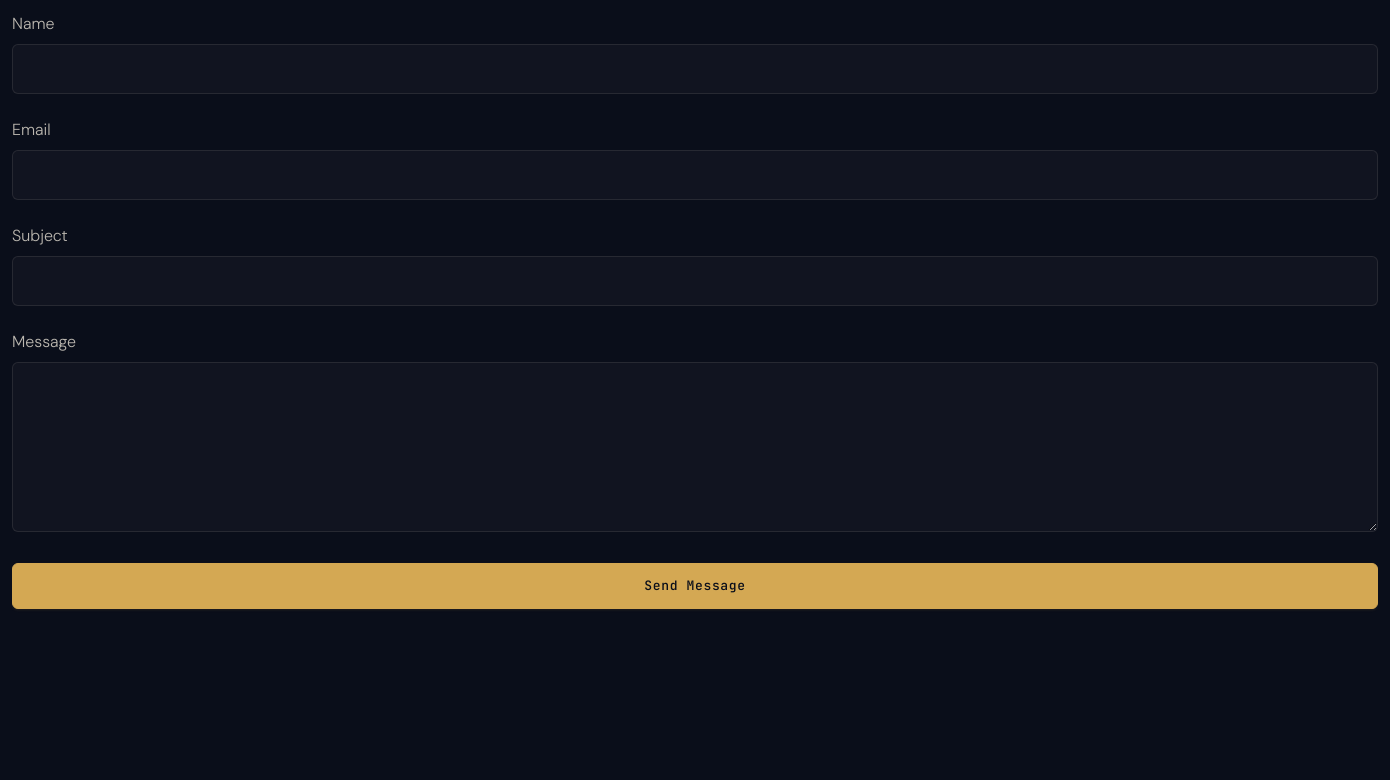
ContactForm Component - Functionality Tests › Form Submission › should handle submission errors gracefully
This screenshot has width=1390, height=780.
# Fill out the form
Type "John Doe" into the field labelled "Name".
click(695, 69); type("John Doe")  # box [12,44,1378,94]
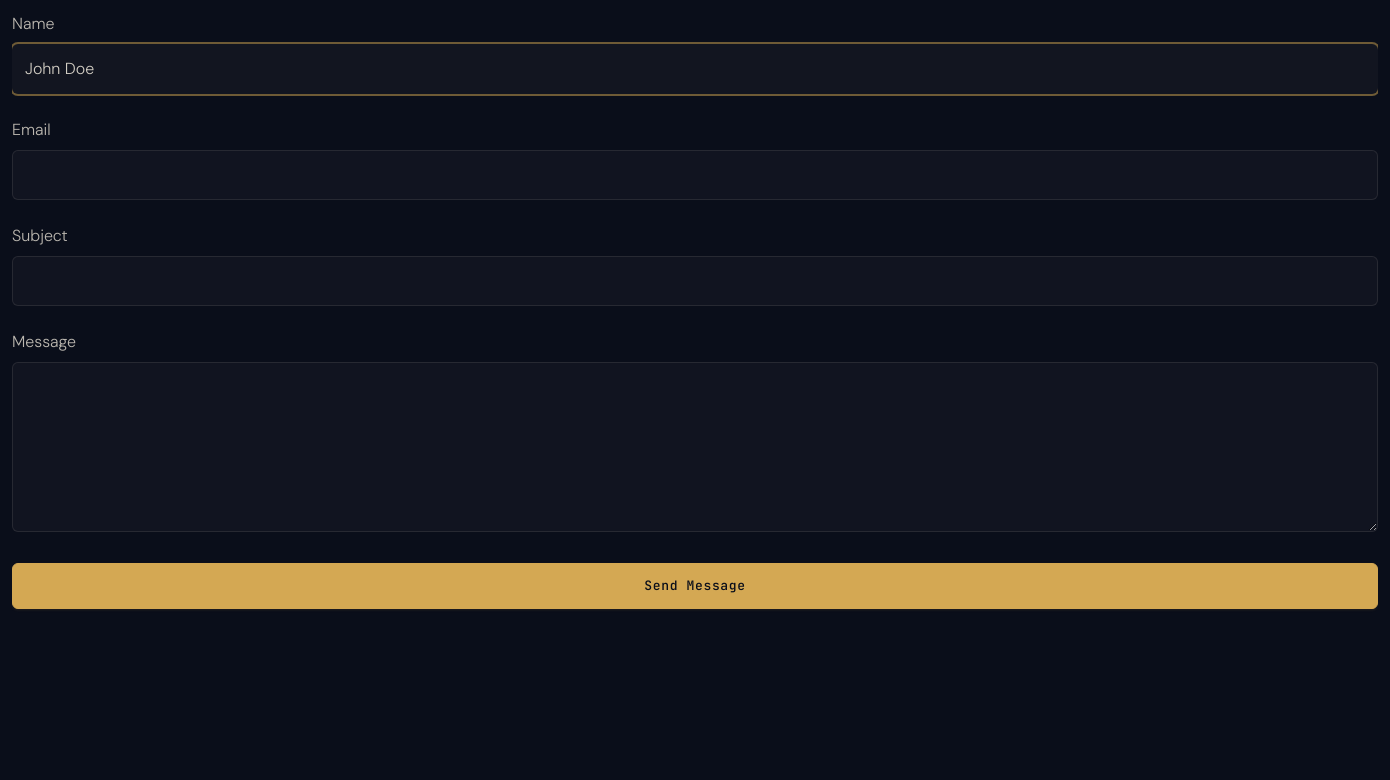
Type "john@example.com" into the field labelled "Email".
click(695, 175); type("john@example.com")  # box [12,150,1378,200]
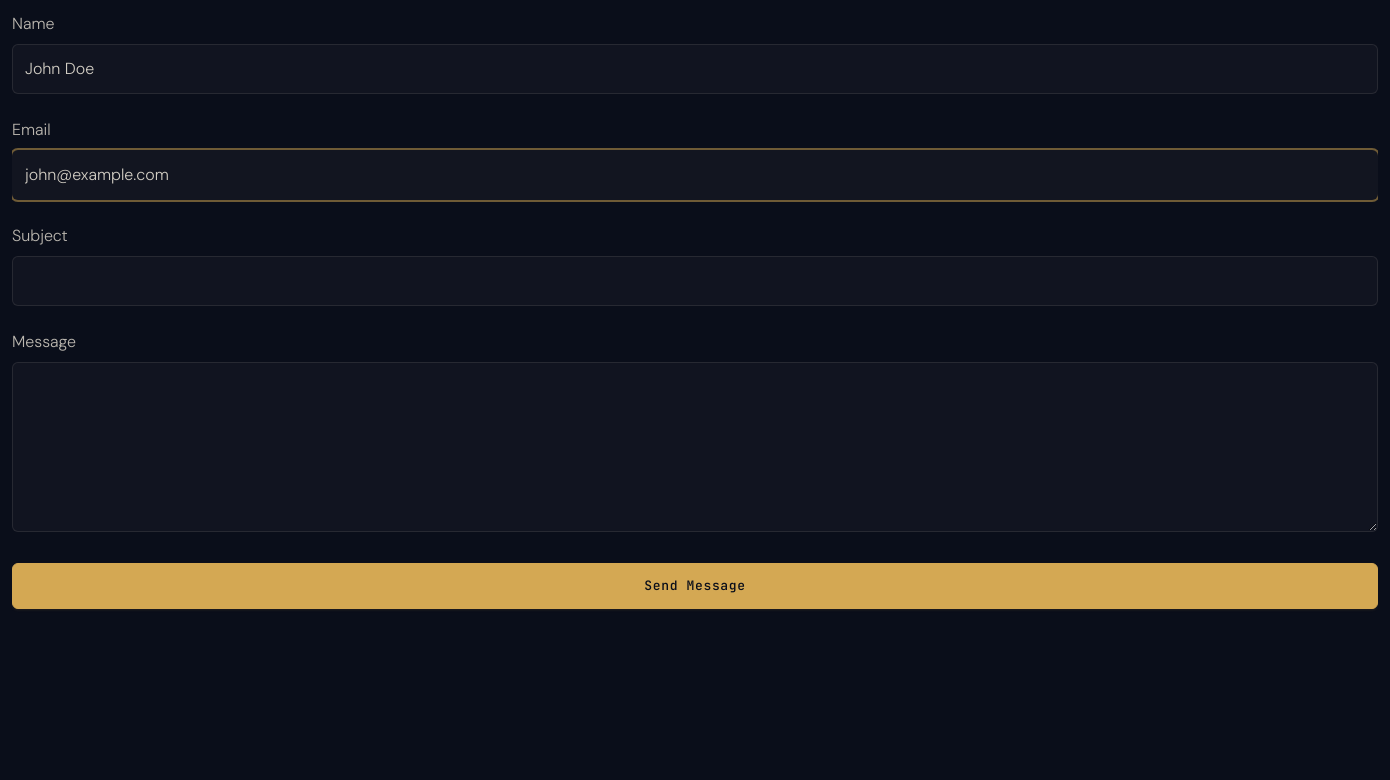
Type "General Inquiry" into the field labelled "Subject".
click(695, 281); type("General Inquiry")  # box [12,256,1378,306]
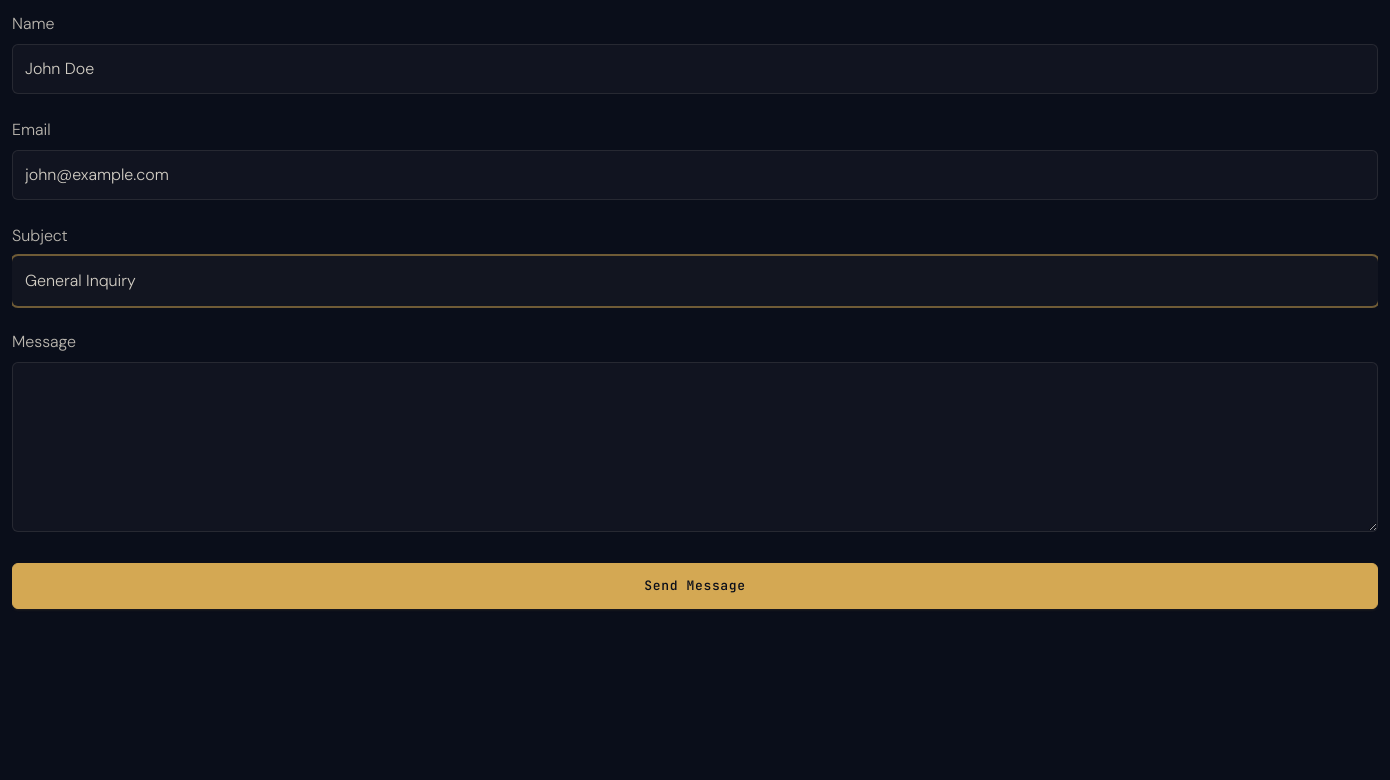
Type "Test message" into the text box labelled "Message".
click(695, 447); type("Test message")  # box [12,362,1378,532]
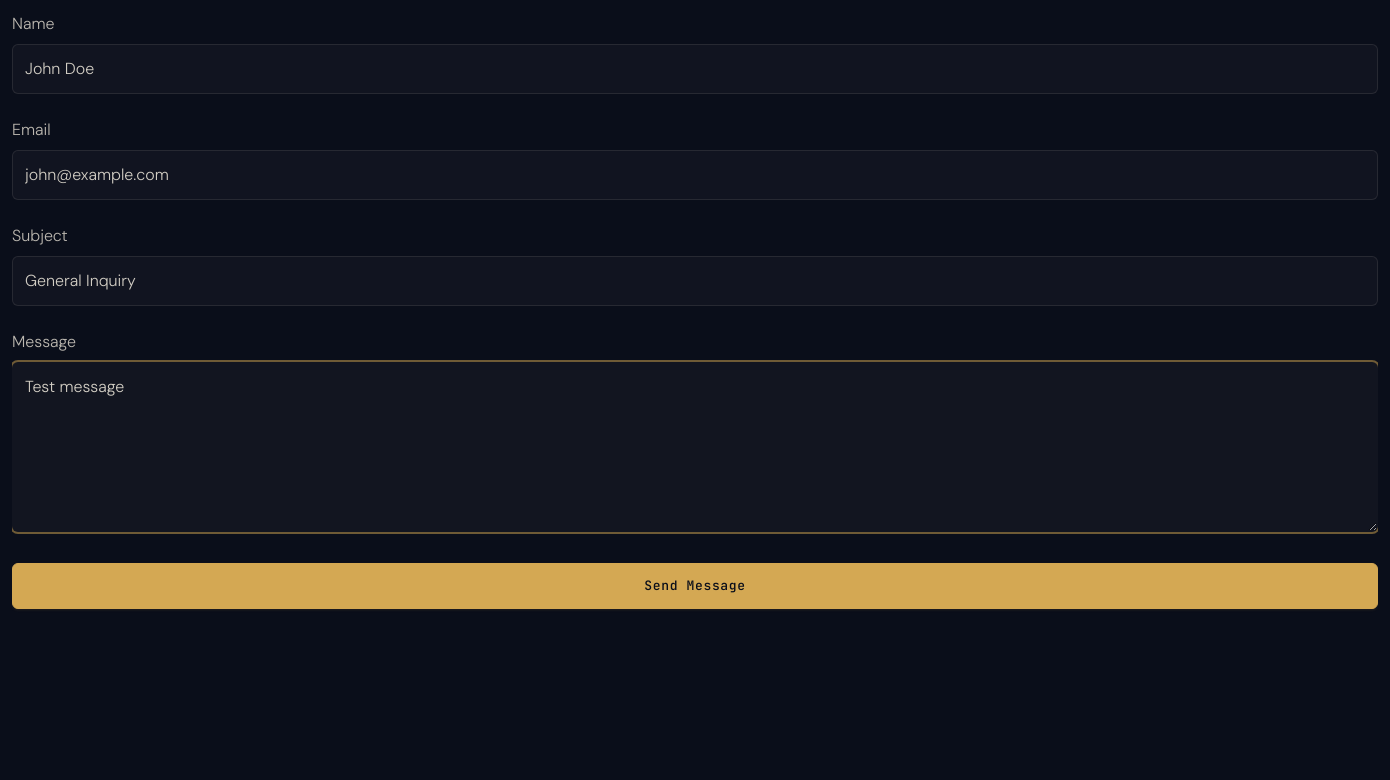
Click the button "Send Message".
click(695, 586)  # box [12,563,1378,608]
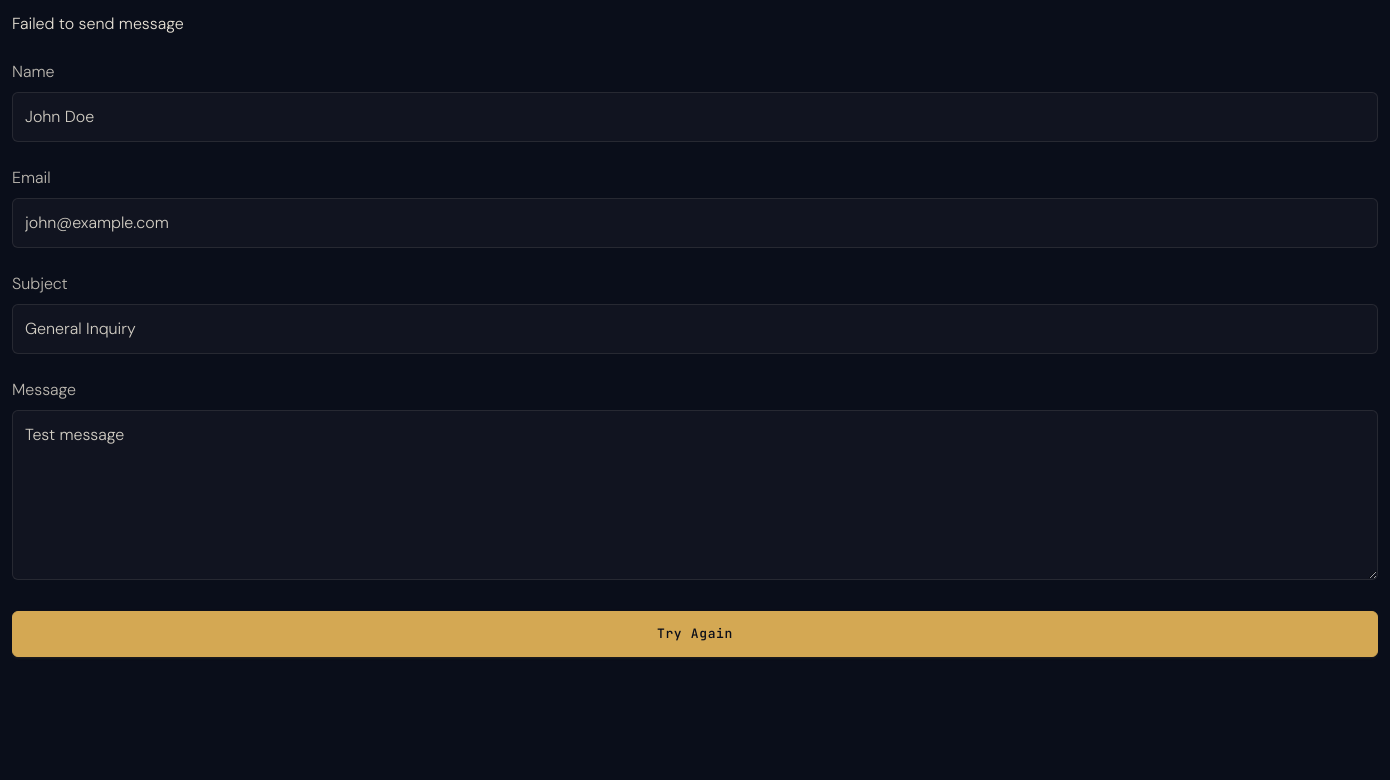
Now the text "Failed to send message" is shown, box [12,13,184,34]
